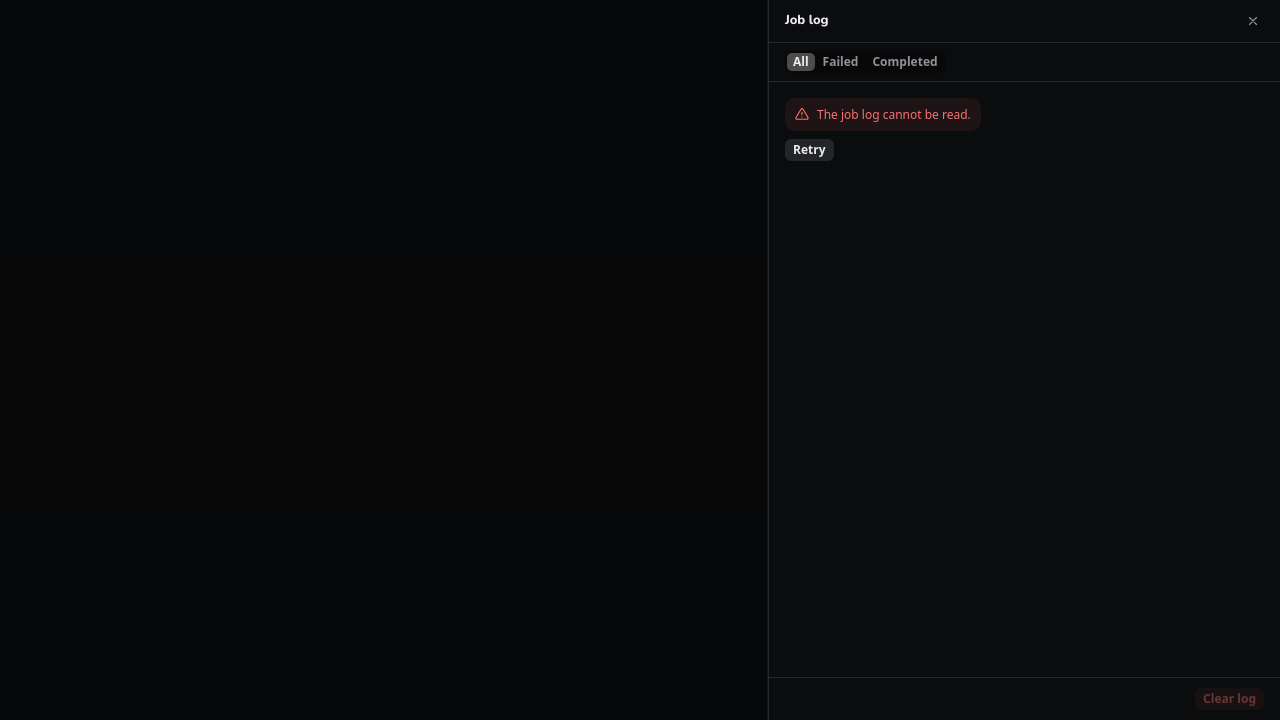
JobLogDrawer › reports a failed load and retries it
The width and height of the screenshot is (1280, 720).
Expected: the message "The job log cannot be read." is shown, [785,98,981,131]
What coordinates should you click on to do the following:
click the button "Retry"
I would click on:
 (809, 150)
Its box is [785,139,834,161].
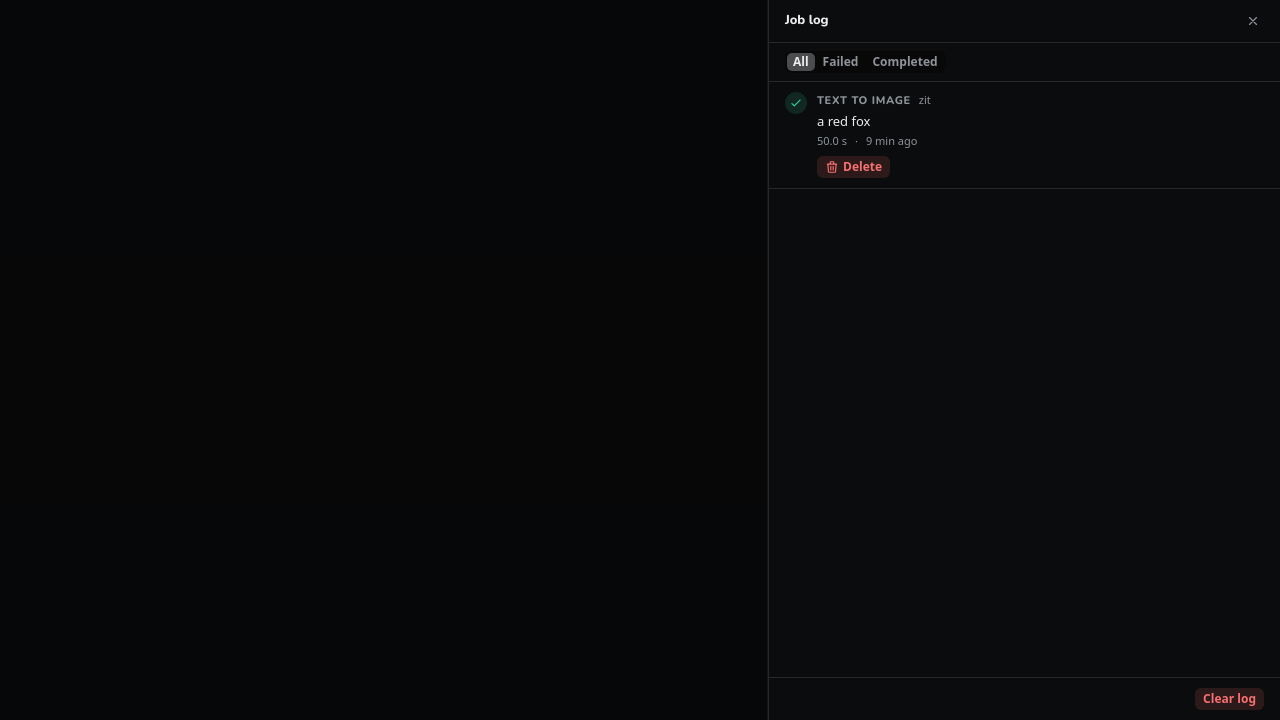
Expected: the message "The job log cannot be read." is gone
